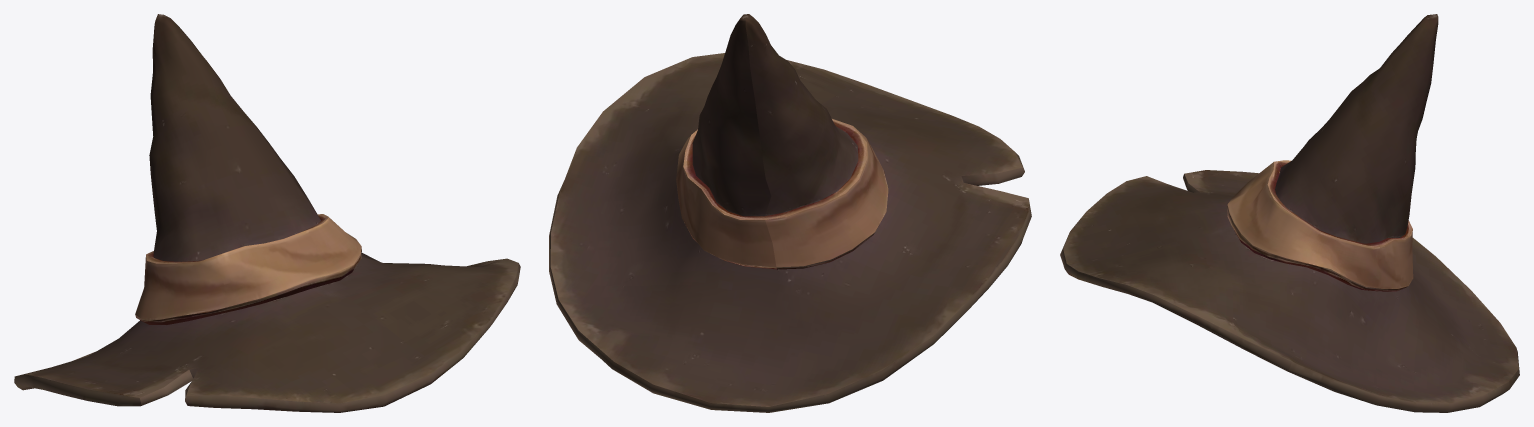
The model's file is hat-transformed.glb.
3 views of the same model, side by side, from view 1: azimuth 30°, elevation 25°; view 2: azimuth 150°, elevation 25°; view 3: azimuth 270°, elevation 25° (orthographic). The views are drawn at different scales.
Visible parts, largest first — view 1: Object_2; view 2: Object_2; view 3: Object_2.
Boxes of the visible parts, left/top/right/bottom form: Object_2: left=14, top=14, right=520, bottom=412; Object_2: left=549, top=14, right=1031, bottom=412; Object_2: left=1060, top=14, right=1519, bottom=412.
Bounding box in the file's own units: 2.19 × 1.77 × 2.13.
1 material, 1 textured.
